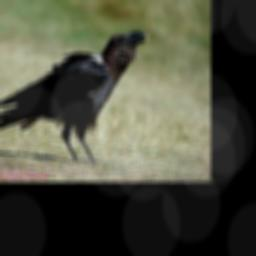Crow: (0, 30, 150, 164)
